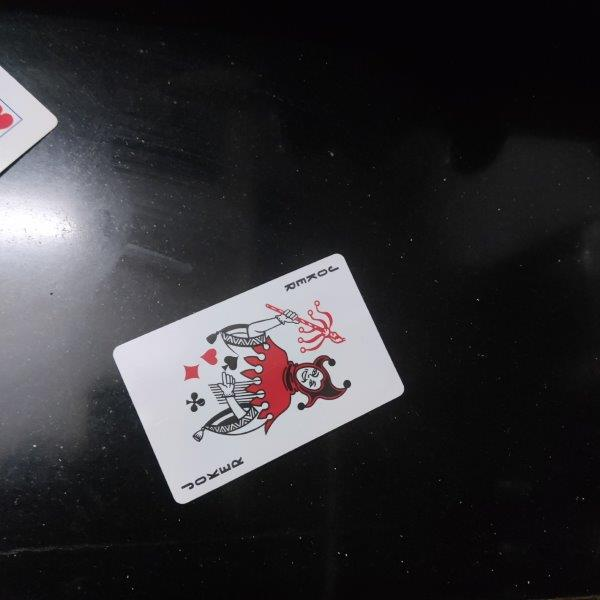Joker: (112, 251, 406, 505)
